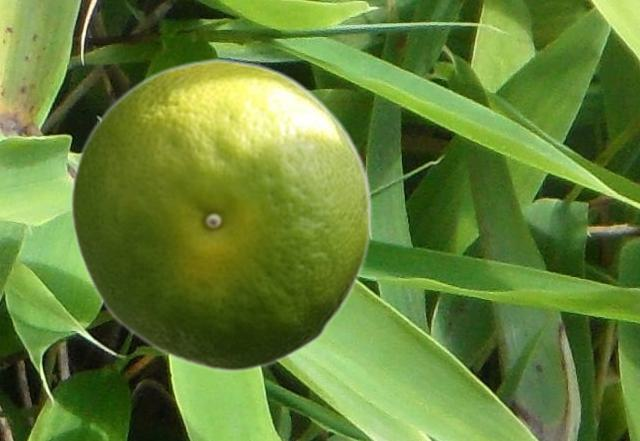dalandan: (69, 57, 371, 372)
